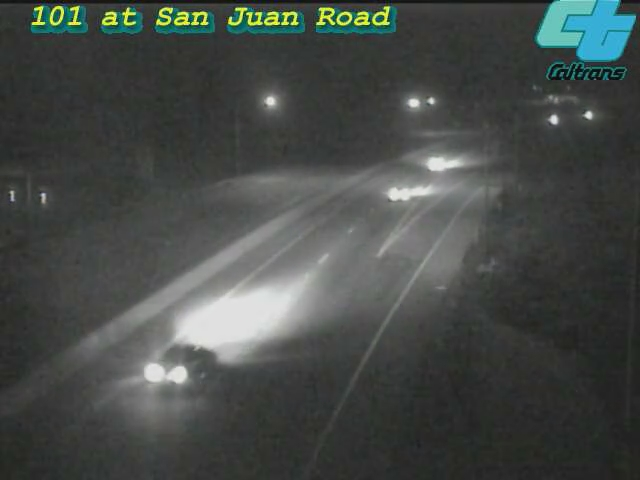vehicle: (126, 312, 236, 422), (397, 123, 477, 203), (359, 154, 439, 234), (529, 94, 579, 144), (566, 91, 616, 141)
